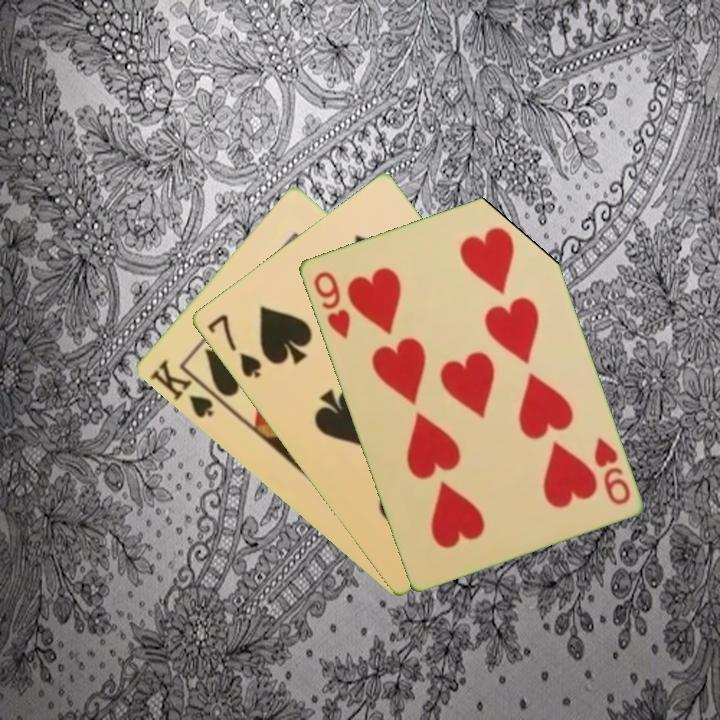7s: (203, 310, 264, 381)
9h: (309, 267, 353, 341), (590, 433, 633, 508)
Ks: (145, 356, 216, 422)
